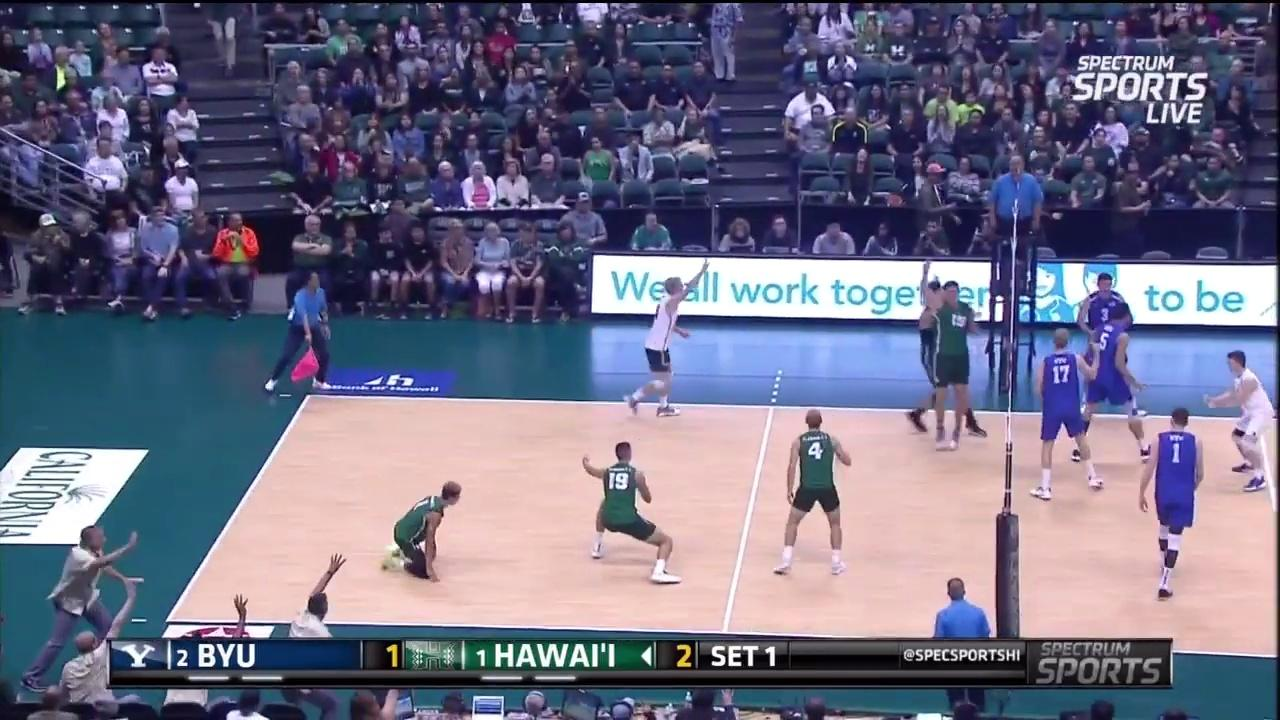player: (908, 271, 991, 439), (1137, 405, 1208, 599), (583, 444, 679, 583), (1081, 301, 1159, 466), (772, 414, 853, 572), (1032, 329, 1105, 499), (622, 276, 710, 417), (1207, 354, 1276, 490), (1084, 274, 1144, 420), (385, 478, 462, 582), (932, 279, 975, 460)
refree: (933, 576, 1003, 709), (987, 147, 1047, 282), (269, 273, 335, 393)
